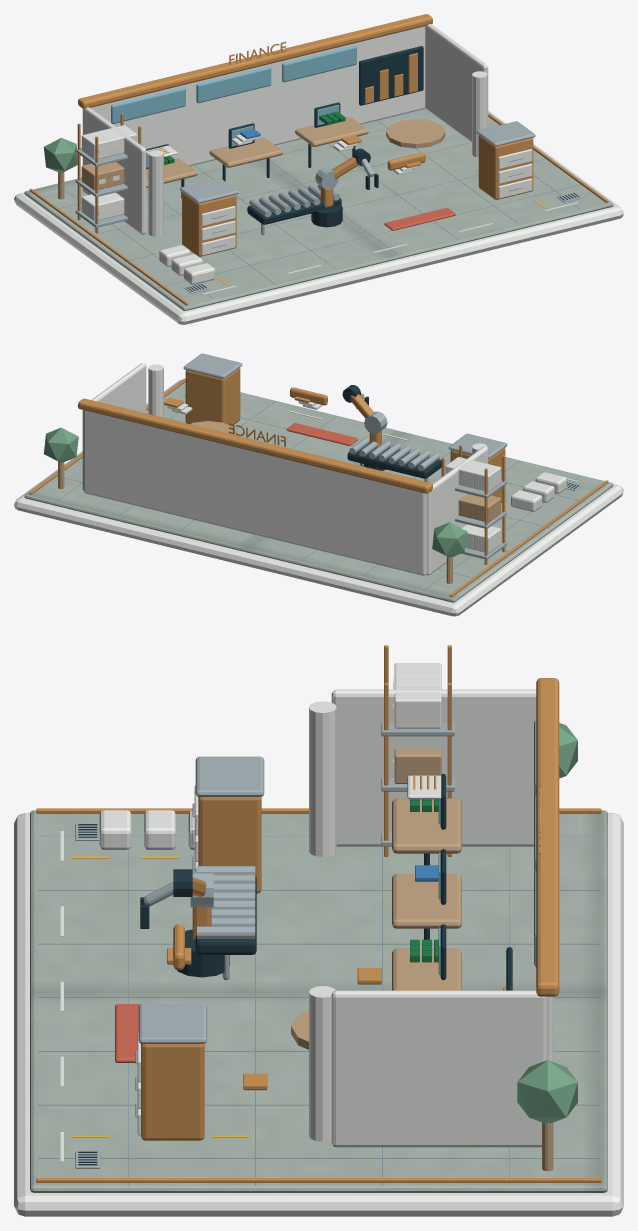
The model's file is finance.glb.
3 renders of one model, top to bottom at view 1: azimuth 30°, elevation 25°; view 2: azimuth 150°, elevation 25°; view 3: azimuth 270°, elevation 25°, orthographic. The views are drawn at different scales.
Parts seen in each view (by area): view 1: StaticWorkshop_0, Activity ground, StaticWorkshop_1, StaticWorkshop_2, StaticWorkshop_4, StaticWorkshop_3, StaticWorkshop_9, StaticWorkshop_6, StaticWorkshop_8, StaticWorkshop_5, Validation mounting; view 2: StaticWorkshop_0, Activity ground, StaticWorkshop_1, StaticWorkshop_9, StaticWorkshop_8, StaticWorkshop_2, StaticWorkshop_3, StaticWorkshop_5, StaticWorkshop_6, Validation joint; view 3: Activity ground, StaticWorkshop_0, StaticWorkshop_1, StaticWorkshop_2, StaticWorkshop_9, StaticWorkshop_8, StaticWorkshop_6, StaticWorkshop_3, StaticWorkshop_5, StaticWorkshop_4, Validation mounting, Document bundle (+1 smaller).
Part boxes in pixels (<box>): StaticWorkshop_0: <box>14,24,623,324</box>; Activity ground: <box>24,109,613,310</box>; StaticWorkshop_1: <box>29,14,608,305</box>; StaticWorkshop_2: <box>58,117,445,199</box>; StaticWorkshop_4: <box>111,46,356,167</box>; StaticWorkshop_3: <box>146,46,578,291</box>; StaticWorkshop_9: <box>75,121,581,293</box>; StaticWorkshop_6: <box>52,116,585,298</box>; StaticWorkshop_8: <box>43,137,77,172</box>; StaticWorkshop_5: <box>384,208,455,230</box>; Validation mounting: <box>311,205,342,227</box>; StaticWorkshop_0: <box>14,363,623,616</box>; Activity ground: <box>24,379,613,602</box>; StaticWorkshop_1: <box>29,367,608,597</box>; StaticWorkshop_9: <box>183,353,581,559</box>; StaticWorkshop_8: <box>43,427,467,557</box>; StaticWorkshop_2: <box>58,421,501,583</box>; StaticWorkshop_3: <box>347,443,579,489</box>; StaticWorkshop_5: <box>286,423,357,445</box>; StaticWorkshop_6: <box>52,399,585,590</box>; Validation joint: <box>364,411,387,433</box>; Activity ground: <box>30,810,607,1192</box>; StaticWorkshop_0: <box>14,663,623,1216</box>; StaticWorkshop_1: <box>36,645,601,1182</box>; StaticWorkshop_2: <box>291,748,553,1171</box>; StaticWorkshop_9: <box>75,722,454,1168</box>; StaticWorkshop_8: <box>517,723,577,1123</box>; StaticWorkshop_6: <box>38,836,599,1185</box>; StaticWorkshop_3: <box>78,774,512,1165</box>; StaticWorkshop_5: <box>115,1004,140,1062</box>; StaticWorkshop_4: <box>438,720,536,974</box>; Validation mounting: <box>177,929,229,977</box>; Document bundle: <box>407,775,446,799</box>.
Bounding box in the file's own units: 7.3 × 1.86 × 4.8.
Materials: 18 (1 with a texture image).
